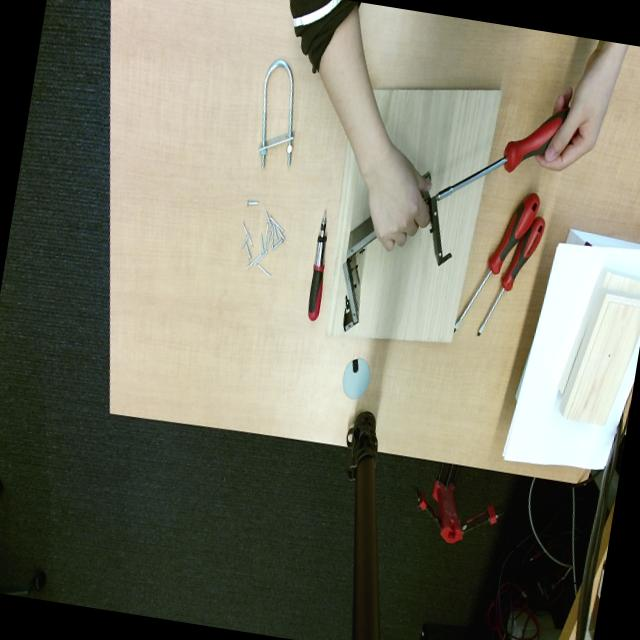screwdriver: (432, 107, 570, 202), (454, 194, 539, 330), (477, 217, 545, 336), (308, 211, 327, 321)
